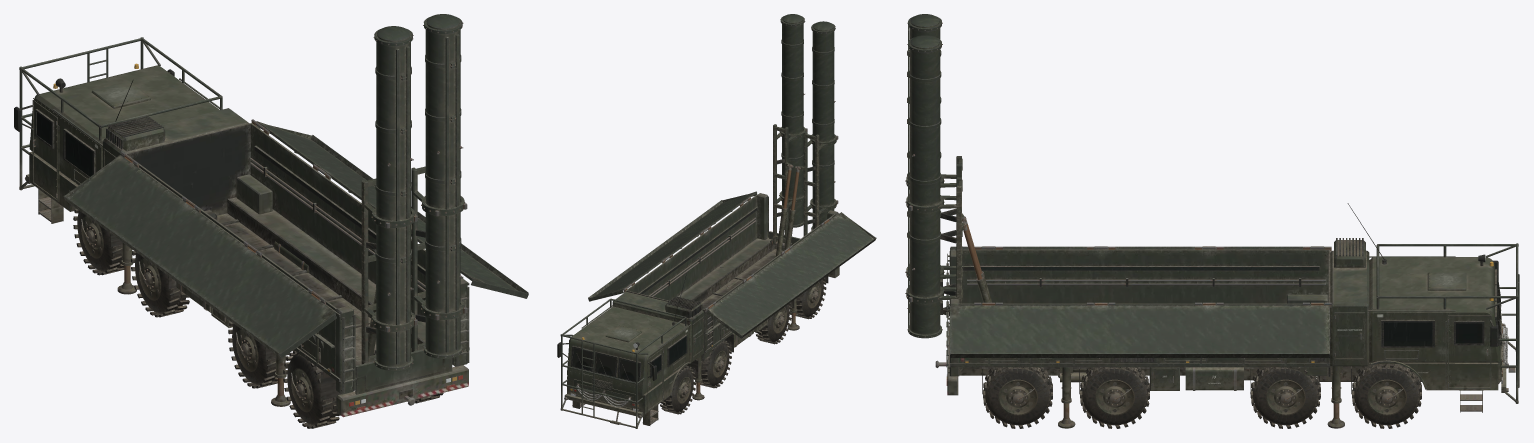
The model's file is iskander_k.glb.
3 renders of one model, left to right at view 1: azimuth 30°, elevation 25°; view 2: azimuth 150°, elevation 25°; view 3: azimuth 270°, elevation 25°, orthographic. The views are drawn at different scales.
Parts seen in each view (by area): view 1: body_bay, lid_l, body_cab, tpk_r, tpk_l, lid_r, body_equip, boom_l, body_guard, wheel_4l, boom_r, wheel_2l (+3 smaller); view 2: body_cab, body_bay, lid_l, tpk_l, tpk_r, lid_r, body_equip, body_guard, boom_l, boom_r, wheel_2l, wheel_1l (+2 smaller); view 3: body_bay, lid_r, body_cab, tpk_r, body_equip, wheel_1r, wheel_4r, wheel_3r, wheel_2r, body_chassis, body_guard, boom_r (+4 smaller).
Part boxes in pixels (box(x1,y1,x2,y2)): body_bay: box(110, 119, 469, 417); lid_l: box(63, 154, 336, 358); body_cab: box(14, 65, 219, 223); tpk_r: box(423, 14, 463, 358); tpk_l: box(373, 26, 413, 370); lid_r: box(255, 121, 528, 298); body_equip: box(103, 108, 249, 167); boom_l: box(361, 178, 417, 364); body_guard: box(19, 38, 222, 188); wheel_4l: box(283, 351, 340, 428); boom_r: box(411, 166, 467, 351); wheel_2l: box(131, 251, 189, 317); body_cab: box(557, 273, 691, 425); body_bay: box(623, 193, 839, 378); lid_l: box(707, 212, 876, 338); tpk_l: box(811, 21, 835, 230); tpk_r: box(780, 14, 805, 227); lid_r: box(588, 191, 757, 301); body_equip: box(612, 291, 703, 363); body_guard: box(561, 298, 686, 428); boom_l: box(795, 131, 838, 236); boom_r: box(772, 124, 807, 247); wheel_2l: box(700, 340, 731, 388); wheel_1l: box(660, 365, 696, 414); body_bay: box(935, 246, 1351, 395); lid_r: box(950, 302, 1329, 357); body_cab: box(1347, 203, 1515, 412); tpk_r: box(907, 35, 942, 338); body_equip: box(1330, 238, 1369, 366); wheel_1r: box(1352, 364, 1421, 428); wheel_4r: box(983, 367, 1052, 428); wheel_3r: box(1080, 367, 1149, 428); wheel_2r: box(1250, 367, 1320, 428); body_chassis: box(959, 366, 1421, 390); body_guard: box(1376, 244, 1519, 402); boom_r: box(906, 177, 965, 315).
Size of the model in its own units: 5.86 by 9.54 by 14.2.
8 materials, 8 textured.
